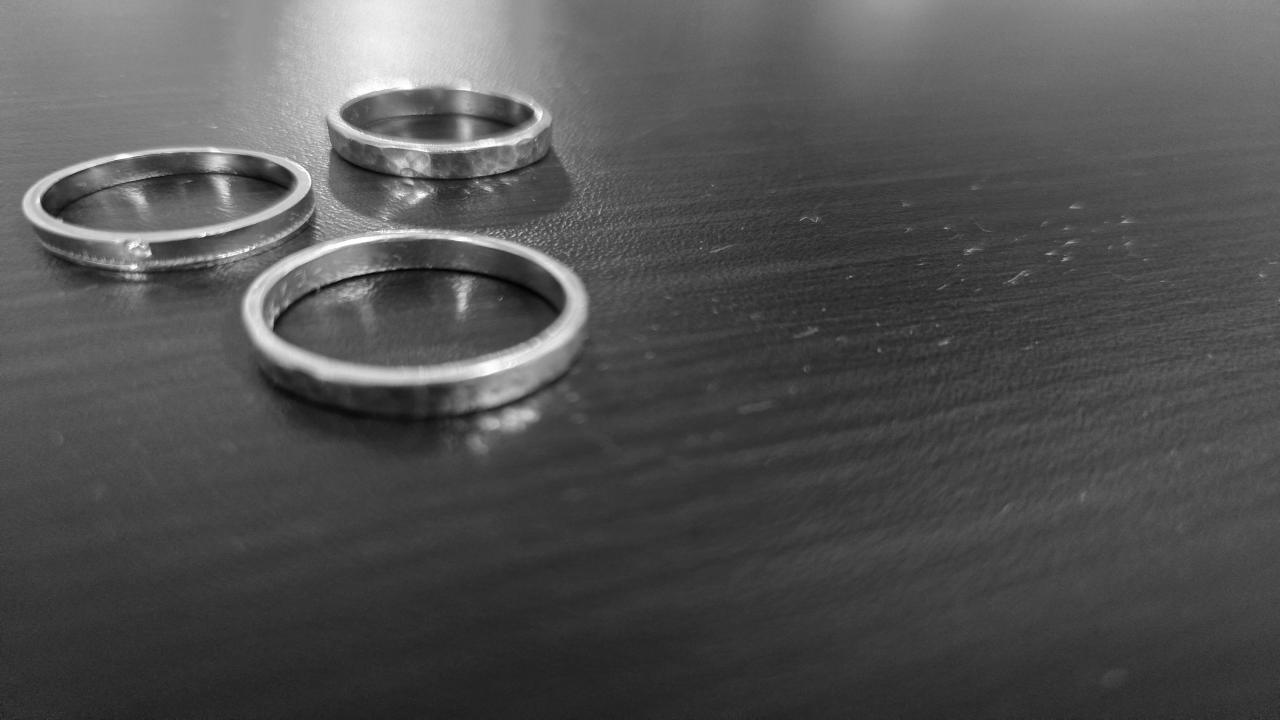ring: (239, 230, 593, 418), (22, 145, 321, 272), (324, 82, 557, 181)
